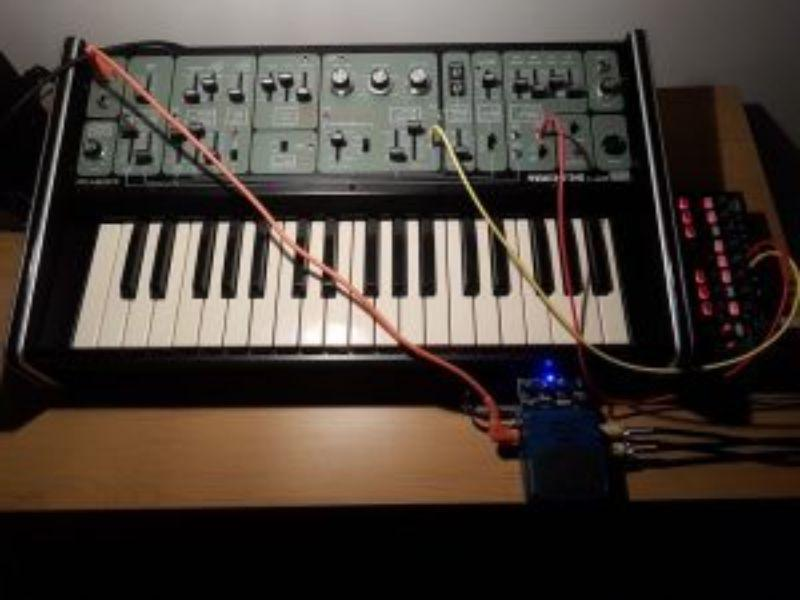synthesizer: (35, 34, 664, 377)
